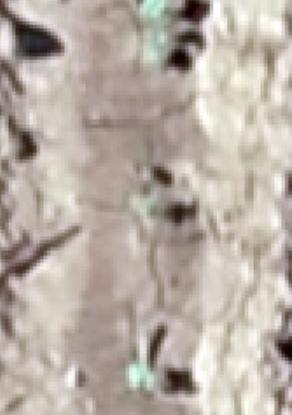cotton: (142, 2, 171, 29), (136, 368, 156, 389), (145, 40, 167, 58), (140, 200, 158, 218)
